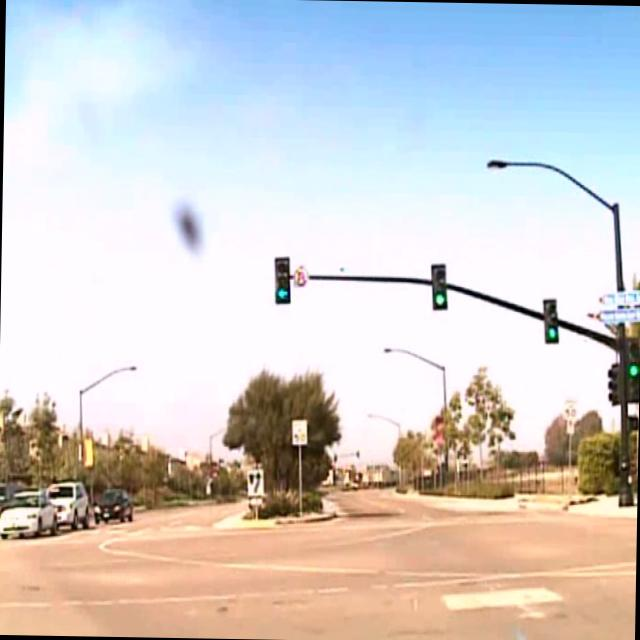50 MPH: (290, 418, 308, 446)
